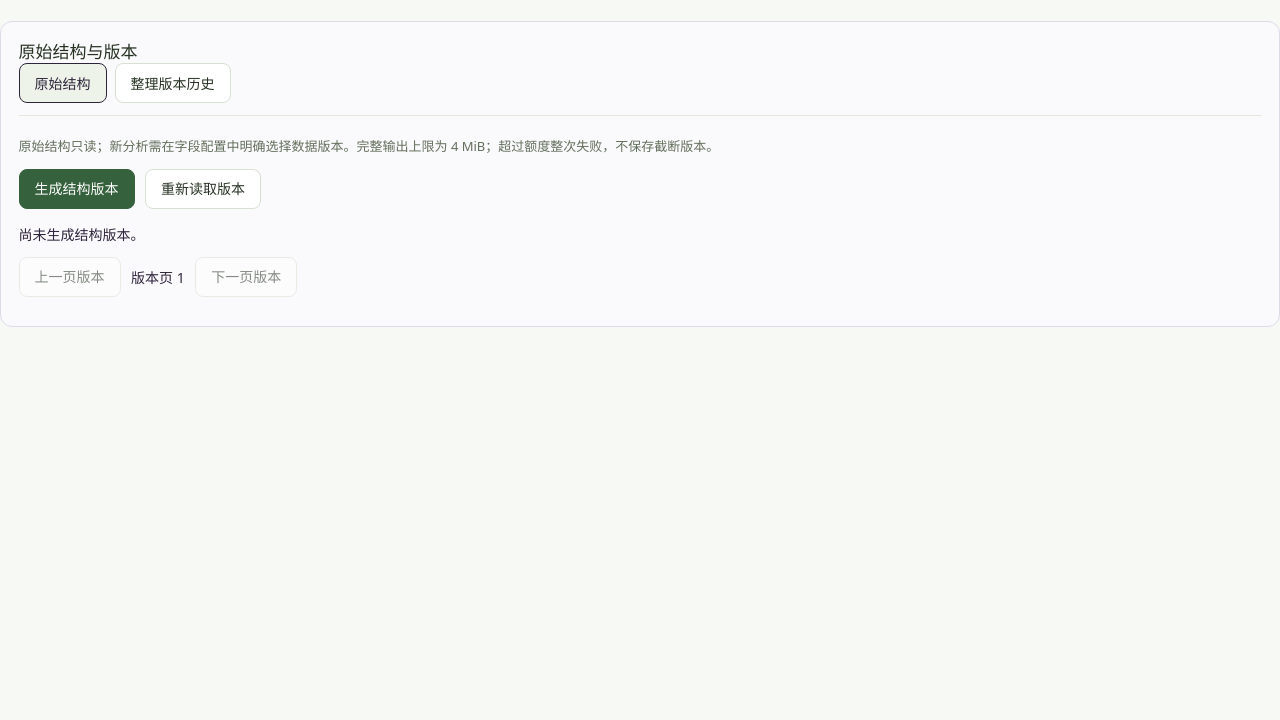
Test: unknown generation remains replayable after reread discovers the active task created by that request
Click the button "生成结构版本". click: (76,189)
box: [18,169,134,209]
(page scrolled)
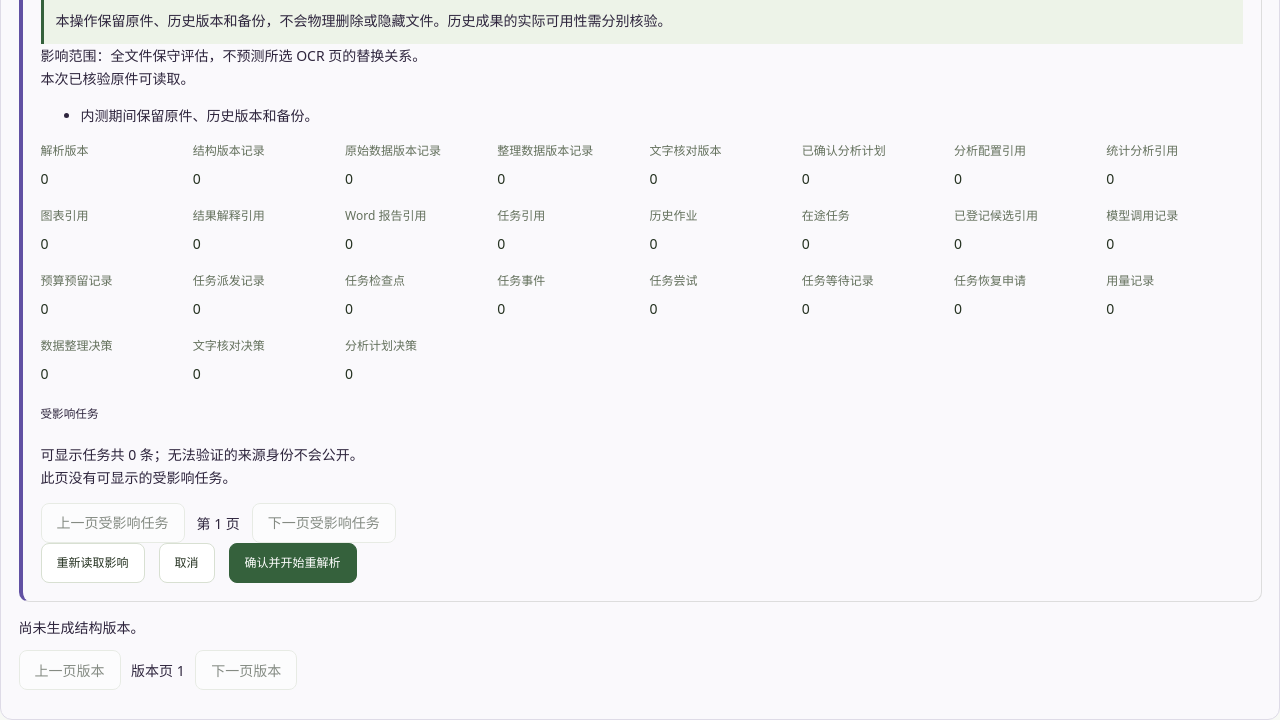
Now the button "确认并开始重解析" is enabled
Click the button "确认并开始重解析". click: (292,563)
box: [228,543,356,583]
(page scrolled)
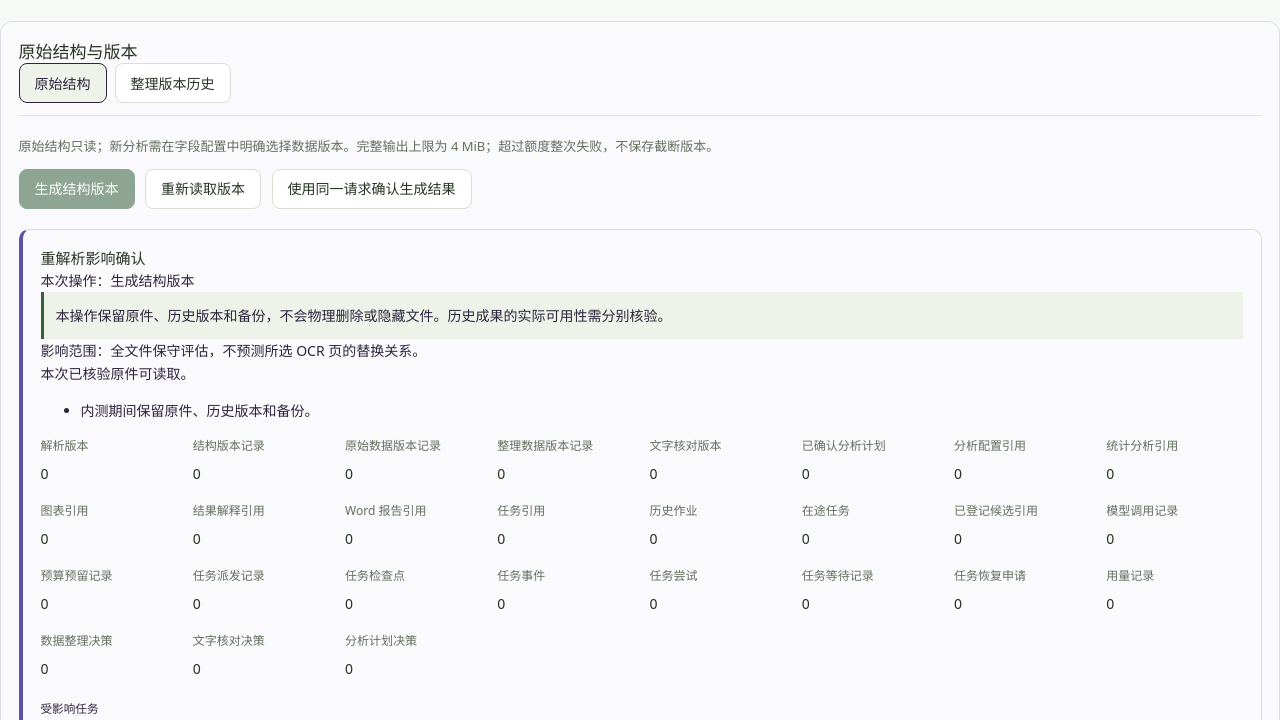
Click the button "重新读取版本". click: (203,189)
box: [145,169,261,209]
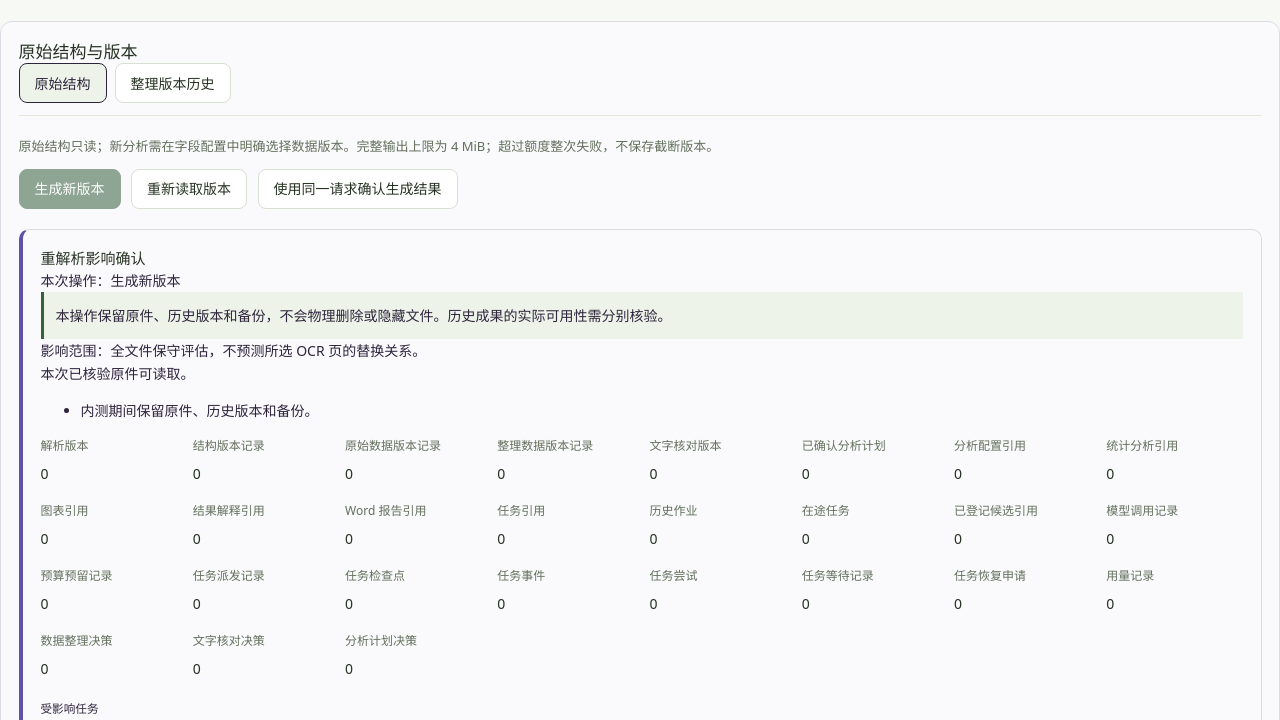
Now the button "使用同一请求确认生成结果" is enabled
Click the button "使用同一请求确认生成结果". click: (358,189)
box: [258,169,458,209]
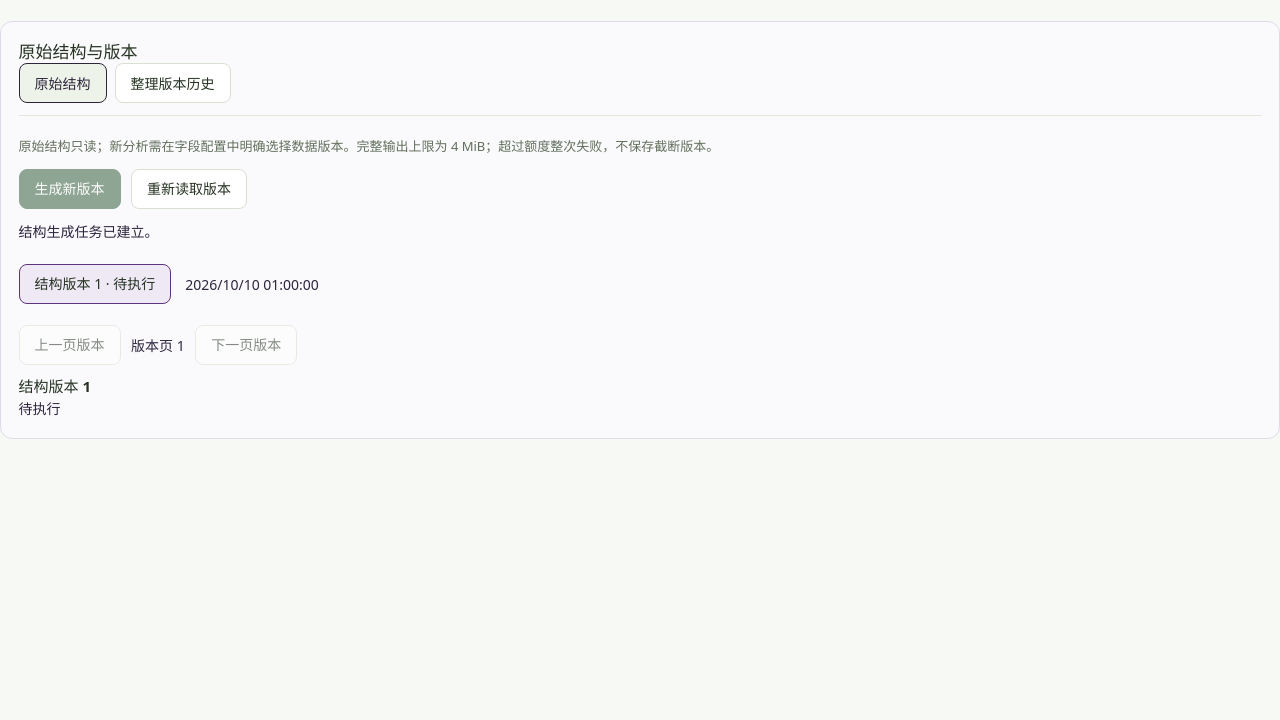
Now the text "结构生成任务已建立。" is shown, box [18,222,158,241]
